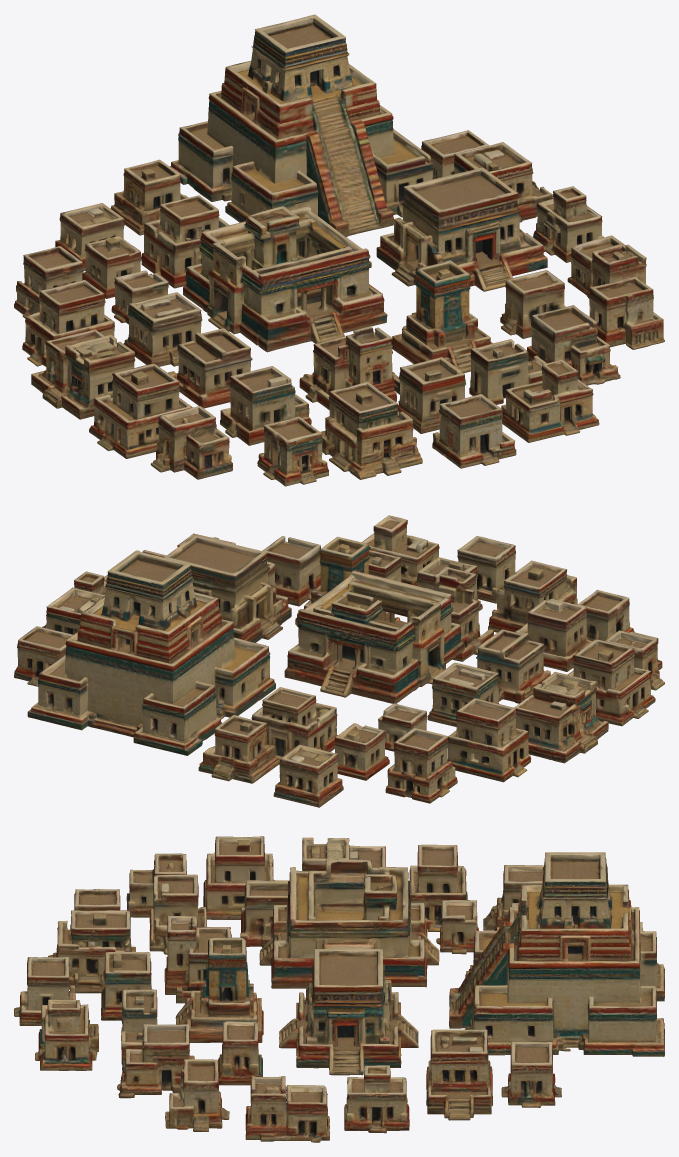
Rendered from Enlightenment Town (Mesoamerican).fbx.
3 views of the same model, one above another, from view 1: azimuth 30°, elevation 25°; view 2: azimuth 150°, elevation 25°; view 3: azimuth 270°, elevation 25° (orthographic). The views are drawn at different scales.
Visible parts, largest first — view 1: tripo_node_90b95e47; view 2: tripo_node_90b95e47; view 3: tripo_node_90b95e47.
Boxes of the visible parts, x1,y1,x2,y2 form: tripo_node_90b95e47: (14,14,664,486); tripo_node_90b95e47: (14,515,664,807); tripo_node_90b95e47: (14,836,664,1142).
Bounding box in the file's own units: 0.9731 × 0.3282 × 1.
